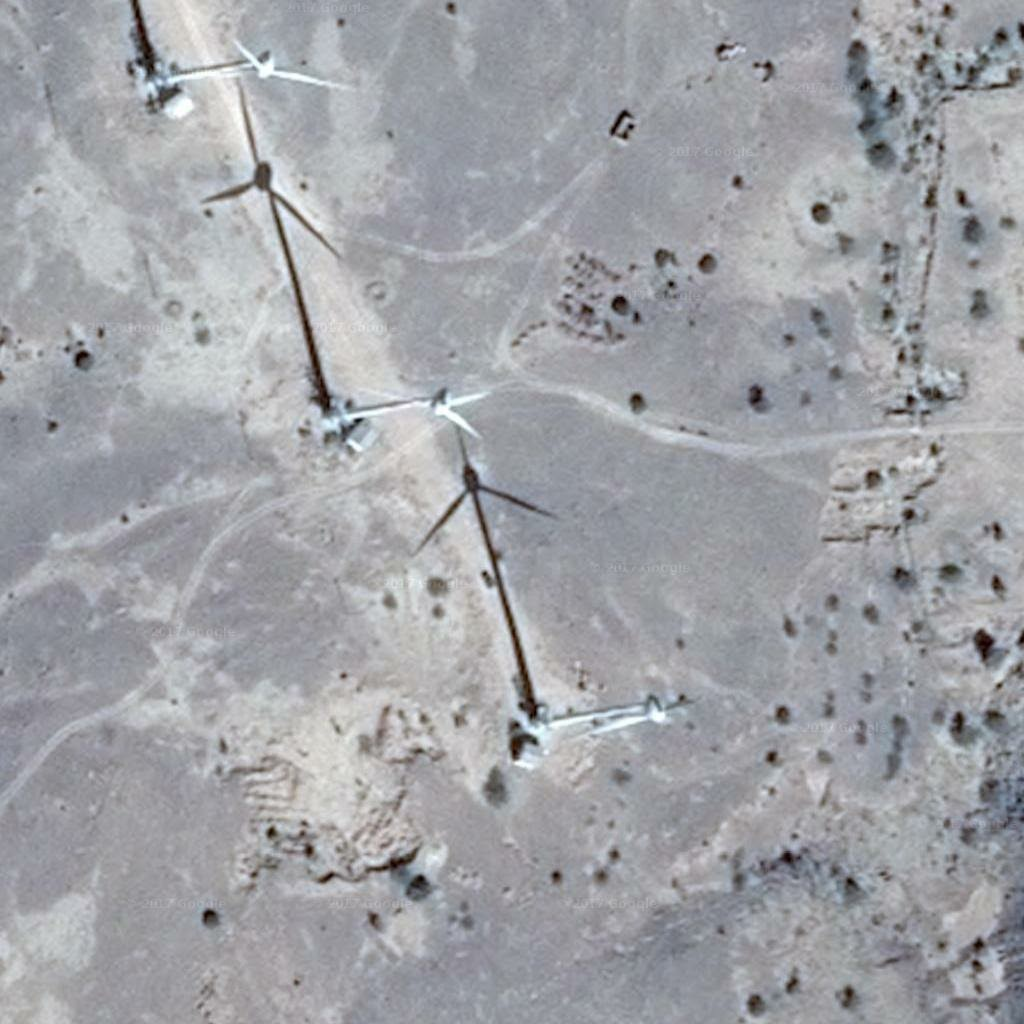Windmill: (429, 409, 569, 687)
